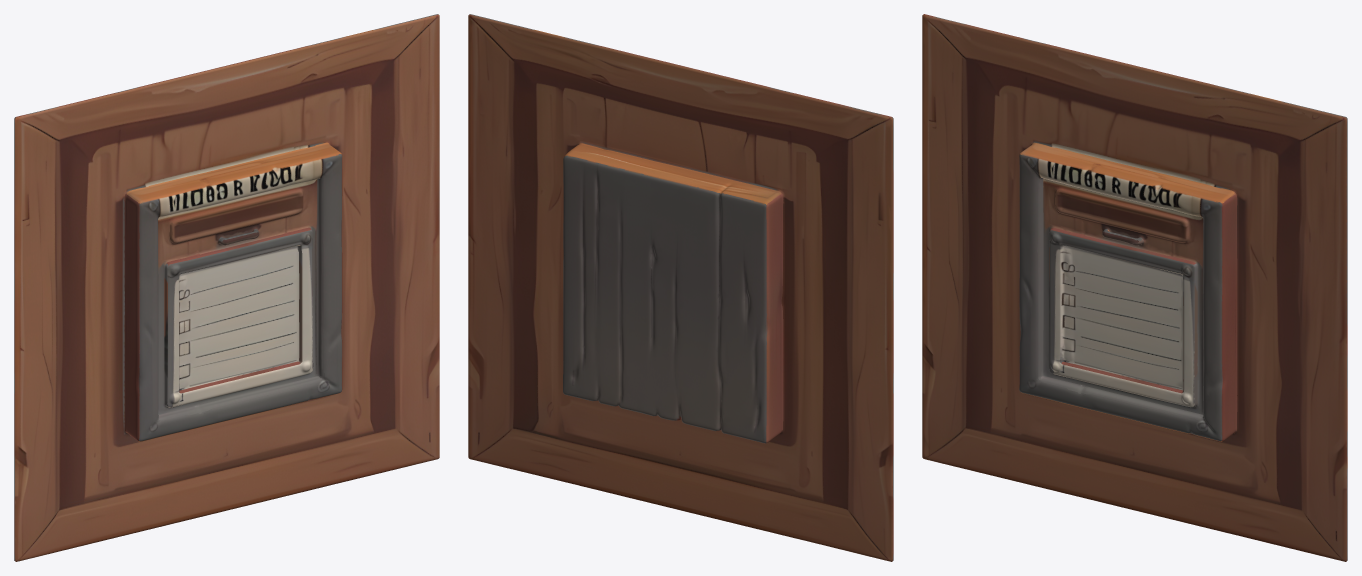
The model's file is VisitorLog.glb.
3 renders of one model, left to right at view 1: azimuth 30°, elevation 25°; view 2: azimuth 150°, elevation 25°; view 3: azimuth 330°, elevation 25°, orthographic.
Visible parts, largest first — view 1: VisitorLog; view 2: VisitorLog; view 3: VisitorLog.
Part boxes in pixels (x1,y1,x2,y2): VisitorLog: [14, 14, 439, 561]; VisitorLog: [468, 14, 893, 561]; VisitorLog: [922, 14, 1347, 561].
Size of the model in its own units: 1.99 by 1.99 by 0.2641.
Materials: 1 (1 with a texture image).
